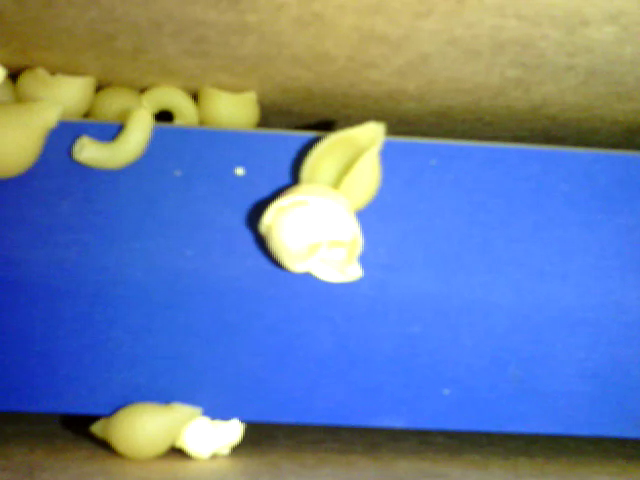elbow: (70, 105, 155, 171), (141, 84, 198, 127)
shell: (297, 119, 387, 214), (89, 399, 203, 460), (1, 100, 61, 185), (16, 66, 98, 120), (195, 81, 258, 130)
